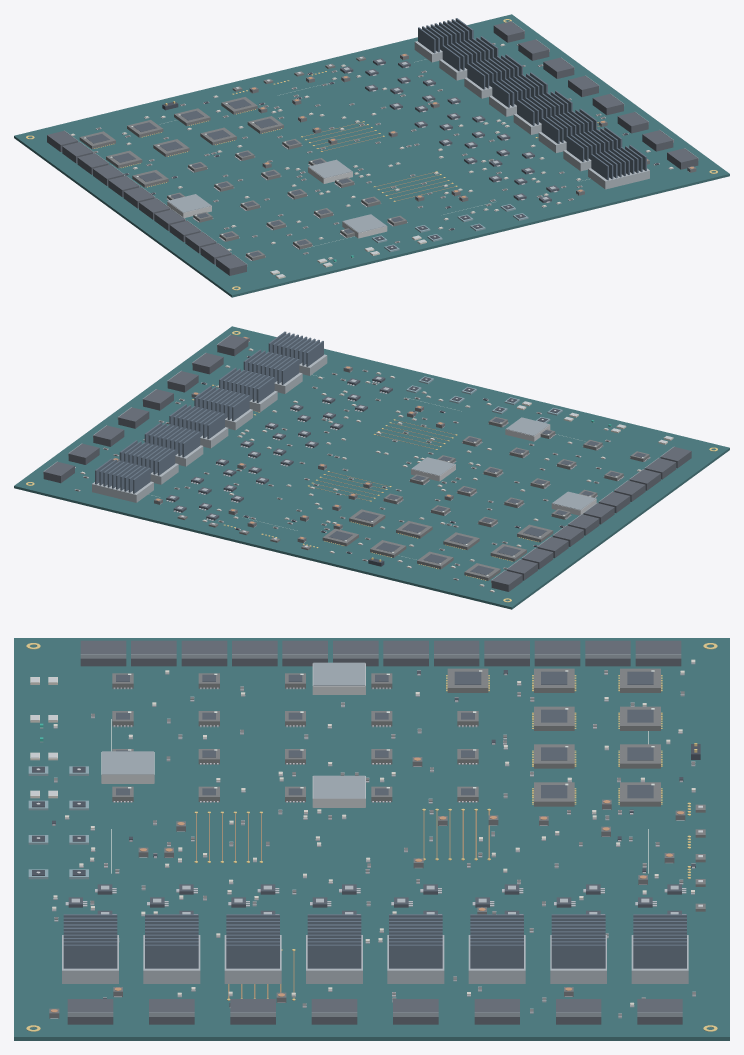
The model's file is 369_L123_AssembledReference.glb.
The picture shows the model from 3 angles, top to bottom: view 1: azimuth 30°, elevation 25°; view 2: azimuth 150°, elevation 25°; view 3: azimuth 270°, elevation 25°; orthographic projection. The views are drawn at different scales.
Parts seen in each view (by area): view 1: 369_L123_AssembledReference__PSMAT__pcb, 369_L123_AssembledReference__PSMAT__anodized, 369_L123_AssembledReference__PSMAT__connector, 369_L123_AssembledReference__PSMAT__graphite, 369_L123_AssembledReference__PSMAT__chip, 369_L123_AssembledReference__PSMAT__aluminum, 369_L123_AssembledReference__PSMAT__steel, 369_L123_AssembledReference__PSMAT__tin, 369_L123_AssembledReference__PSMAT__ceramic, 369_L123_AssembledReference__PSMAT__ferrite, 369_L123_AssembledReference__PSMAT__nickel, 369_L123_AssembledReference__PSMAT__resistor (+3 smaller); view 2: 369_L123_AssembledReference__PSMAT__pcb, 369_L123_AssembledReference__PSMAT__anodized, 369_L123_AssembledReference__PSMAT__connector, 369_L123_AssembledReference__PSMAT__graphite, 369_L123_AssembledReference__PSMAT__chip, 369_L123_AssembledReference__PSMAT__aluminum, 369_L123_AssembledReference__PSMAT__tin, 369_L123_AssembledReference__PSMAT__steel, 369_L123_AssembledReference__PSMAT__ceramic, 369_L123_AssembledReference__PSMAT__ferrite, 369_L123_AssembledReference__PSMAT__nickel, 369_L123_AssembledReference__PSMAT__resistor (+4 smaller); view 3: 369_L123_AssembledReference__PSMAT__pcb, 369_L123_AssembledReference__PSMAT__anodized, 369_L123_AssembledReference__PSMAT__connector, 369_L123_AssembledReference__PSMAT__graphite, 369_L123_AssembledReference__PSMAT__aluminum, 369_L123_AssembledReference__PSMAT__steel, 369_L123_AssembledReference__PSMAT__chip, 369_L123_AssembledReference__PSMAT__tin, 369_L123_AssembledReference__PSMAT__nickel, 369_L123_AssembledReference__PSMAT__ceramic, 369_L123_AssembledReference__PSMAT__ferrite, 369_L123_AssembledReference__PSMAT__gold (+4 smaller).
Part boxes in pixels (bbox=[...]): 369_L123_AssembledReference__PSMAT__pcb: bbox=[14, 14, 729, 297]; 369_L123_AssembledReference__PSMAT__anodized: bbox=[418, 18, 646, 180]; 369_L123_AssembledReference__PSMAT__connector: bbox=[47, 21, 698, 275]; 369_L123_AssembledReference__PSMAT__graphite: bbox=[79, 56, 406, 260]; 369_L123_AssembledReference__PSMAT__chip: bbox=[86, 58, 559, 256]; 369_L123_AssembledReference__PSMAT__aluminum: bbox=[343, 41, 649, 199]; 369_L123_AssembledReference__PSMAT__steel: bbox=[64, 21, 698, 266]; 369_L123_AssembledReference__PSMAT__tin: bbox=[70, 43, 673, 262]; 369_L123_AssembledReference__PSMAT__ceramic: bbox=[71, 43, 672, 278]; 369_L123_AssembledReference__PSMAT__ferrite: bbox=[249, 53, 696, 201]; 369_L123_AssembledReference__PSMAT__nickel: bbox=[167, 167, 387, 238]; 369_L123_AssembledReference__PSMAT__resistor: bbox=[94, 43, 604, 254]; 369_L123_AssembledReference__PSMAT__pcb: bbox=[14, 326, 729, 609]; 369_L123_AssembledReference__PSMAT__anodized: bbox=[95, 331, 323, 493]; 369_L123_AssembledReference__PSMAT__connector: bbox=[43, 335, 691, 591]; 369_L123_AssembledReference__PSMAT__graphite: bbox=[177, 416, 649, 580]; 369_L123_AssembledReference__PSMAT__chip: bbox=[166, 376, 646, 575]; 369_L123_AssembledReference__PSMAT__aluminum: bbox=[92, 354, 389, 517]; 369_L123_AssembledReference__PSMAT__tin: bbox=[74, 349, 650, 592]; 369_L123_AssembledReference__PSMAT__steel: bbox=[43, 334, 674, 582]; 369_L123_AssembledReference__PSMAT__ceramic: bbox=[81, 348, 673, 592]; 369_L123_AssembledReference__PSMAT__ferrite: bbox=[112, 336, 453, 543]; 369_L123_AssembledReference__PSMAT__nickel: bbox=[411, 424, 596, 515]; 369_L123_AssembledReference__PSMAT__resistor: bbox=[75, 369, 609, 580]; 369_L123_AssembledReference__PSMAT__pcb: bbox=[14, 638, 729, 1040]; 369_L123_AssembledReference__PSMAT__anodized: bbox=[63, 914, 686, 968]; 369_L123_AssembledReference__PSMAT__connector: bbox=[67, 640, 682, 1024]; 369_L123_AssembledReference__PSMAT__graphite: bbox=[112, 668, 705, 911]; 369_L123_AssembledReference__PSMAT__aluminum: bbox=[62, 885, 688, 983]; 369_L123_AssembledReference__PSMAT__steel: bbox=[67, 654, 682, 1016]; 369_L123_AssembledReference__PSMAT__chip: bbox=[68, 671, 681, 914]; 369_L123_AssembledReference__PSMAT__tin: bbox=[40, 662, 695, 1018]; 369_L123_AssembledReference__PSMAT__nickel: bbox=[101, 663, 365, 807]; 369_L123_AssembledReference__PSMAT__ceramic: bbox=[30, 659, 695, 1005]; 369_L123_AssembledReference__PSMAT__ferrite: bbox=[49, 757, 685, 1018]; 369_L123_AssembledReference__PSMAT__gold: bbox=[26, 643, 717, 1031].
Bounding box in the file's own units: 0.58 × 0.0276 × 0.44.
